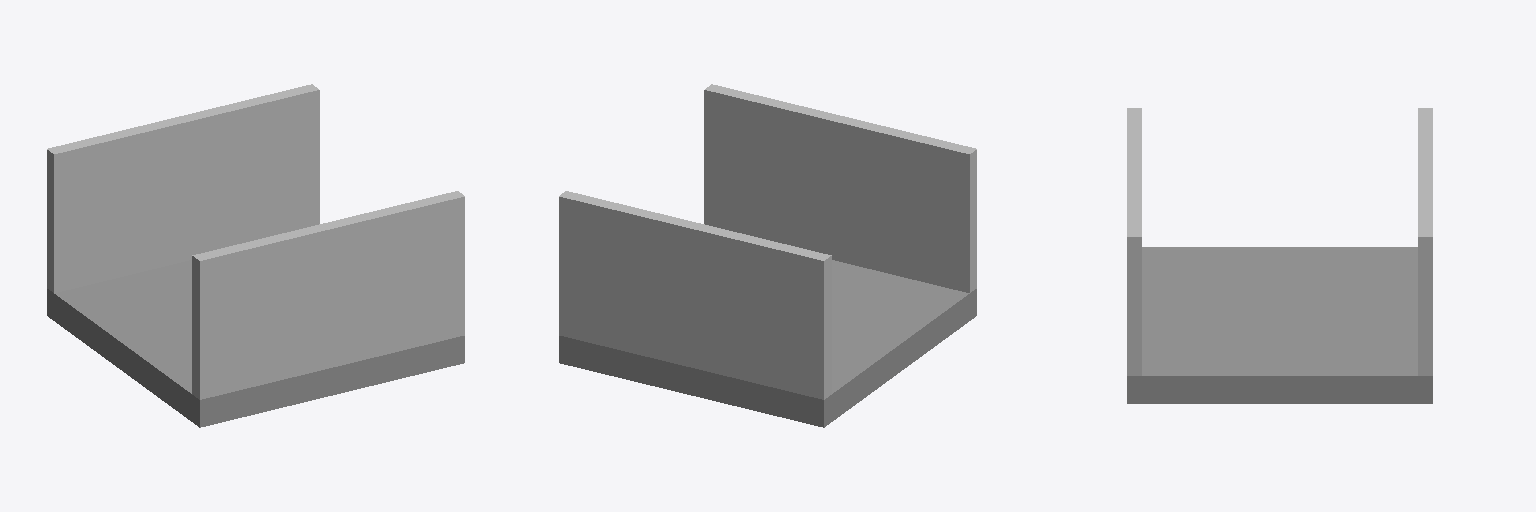
File: hallway-wide_1.obj
3 renders of one model, left to right at view 1: azimuth 30°, elevation 25°; view 2: azimuth 150°, elevation 25°; view 3: azimuth 270°, elevation 25°, orthographic.
Visible parts, largest first — view 1: Cube.002, Cube.001, Cube; view 2: Cube.001, Cube.002, Cube; view 3: Cube, Cube.002, Cube.001.
Part boxes in pixels (x1,y1,x2,y2): Cube.002: (192, 191, 464, 399); Cube.001: (47, 84, 319, 292); Cube: (47, 260, 464, 427); Cube.001: (559, 191, 831, 399); Cube.002: (704, 84, 976, 292); Cube: (559, 260, 976, 427); Cube: (1127, 247, 1432, 403); Cube.002: (1127, 108, 1141, 375); Cube.001: (1418, 108, 1432, 375).
Size of the model in its own units: 10 by 6 by 10.